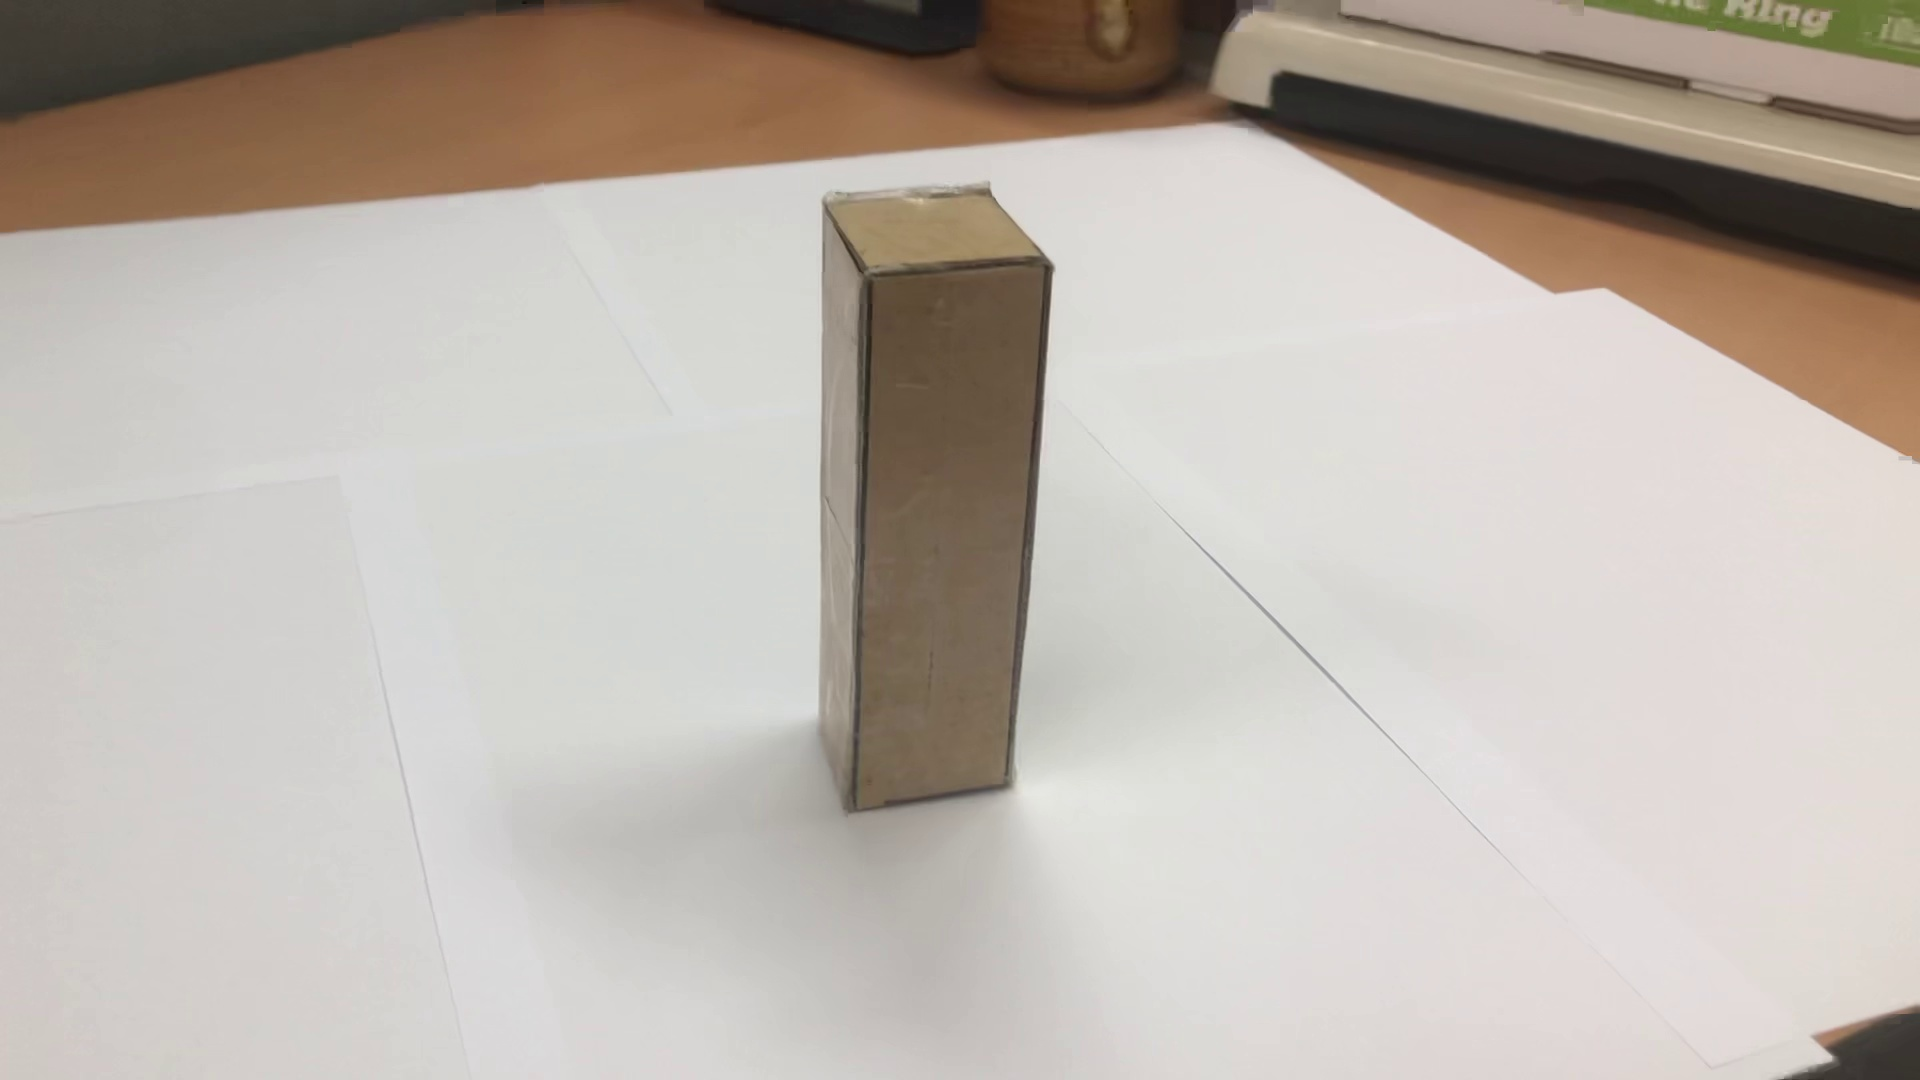box: (796, 164, 1043, 827)
